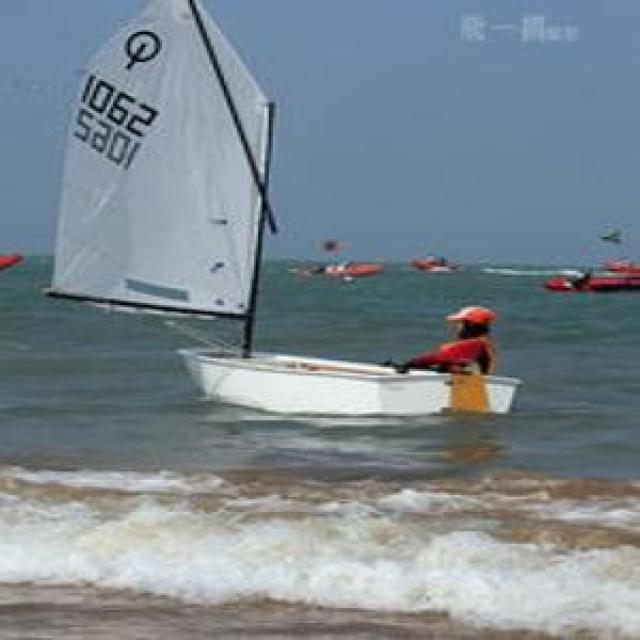sailboat: (42, 9, 516, 426)
